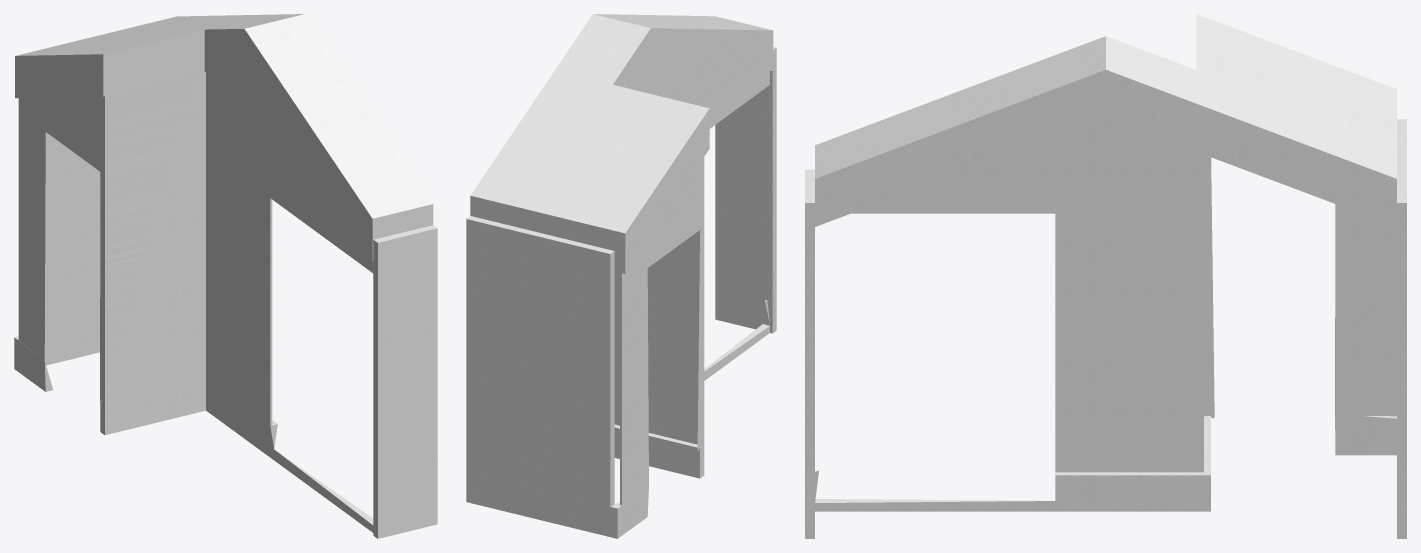
The model's file is baking_17.glb.
3 views of the same model, side by side, from view 1: azimuth 30°, elevation 25°; view 2: azimuth 150°, elevation 25°; view 3: azimuth 270°, elevation 25° (orthographic). The views are drawn at different scales.
Visible parts, largest first — view 1: StaticMeshActor_50; view 2: StaticMeshActor_50; view 3: StaticMeshActor_50.
Part boxes in pixels (x1,y1,x2,y2): StaticMeshActor_50: (14, 14, 437, 538); StaticMeshActor_50: (466, 14, 776, 538); StaticMeshActor_50: (805, 14, 1406, 538).
Bounding box in the file's own units: 1.6 × 3.9 × 4.54.
Materials: 1 (1 with a texture image).
